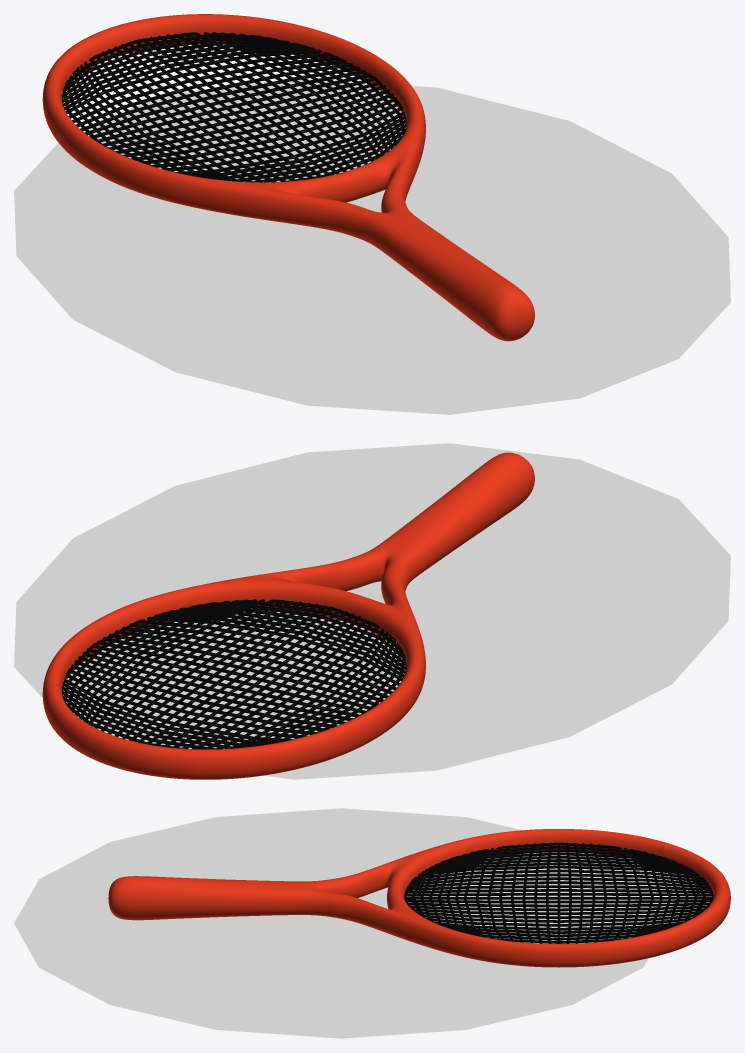
Rendered from ラケット.fbx.
3 renders of one model, top to bottom at view 1: azimuth 30°, elevation 25°; view 2: azimuth 150°, elevation 25°; view 3: azimuth 270°, elevation 25°, orthographic. The views are drawn at different scales.
Visible parts, largest first — view 1: 円, 円.001, yoko, tate; view 2: 円, 円.001, yoko, tate; view 3: 円, 円.001, tate, yoko.
Part boxes in pixels (x1=…): 円: x1=14, y1=79, x2=730, y2=414; 円.001: x1=42, y1=14, x2=534, y2=341; yoko: x1=62, y1=32, x2=406, y2=182; tate: x1=62, y1=32, x2=406, y2=182; 円: x1=14, y1=443, x2=730, y2=779; 円.001: x1=42, y1=452, x2=534, y2=779; yoko: x1=62, y1=599, x2=406, y2=749; tate: x1=62, y1=599, x2=406, y2=749; 円: x1=14, y1=808, x2=667, y2=1038; 円.001: x1=108, y1=829, x2=730, y2=967; tate: x1=404, y1=842, x2=713, y2=943; yoko: x1=404, y1=842, x2=713, y2=943.
Bounding box in the file's own units: 200 × 18.5 × 263.
